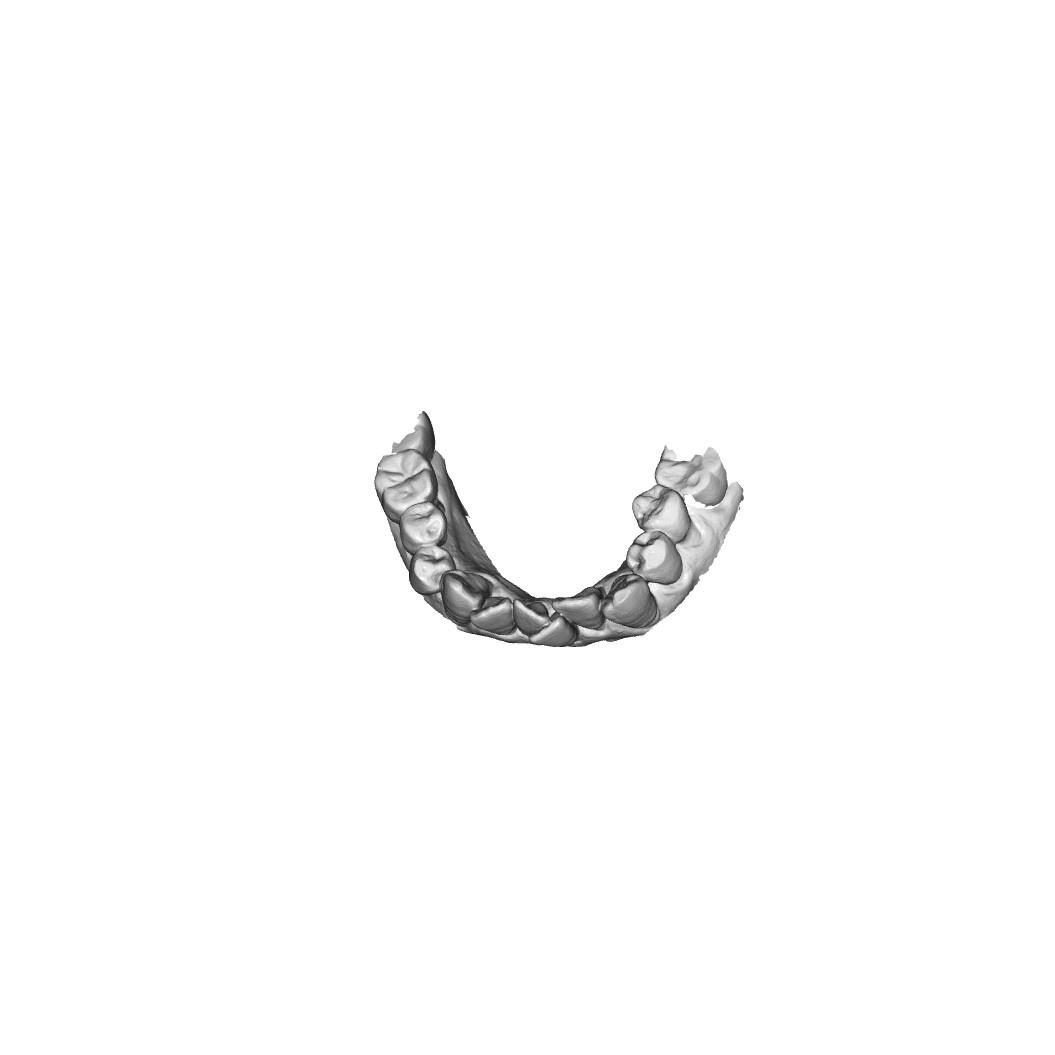canine: (601, 576, 663, 631), (438, 568, 489, 625)
incisor: (557, 585, 607, 633), (473, 600, 524, 640), (533, 616, 578, 652), (514, 597, 550, 640)
molar: (375, 451, 436, 516), (657, 442, 727, 498)
premolar: (631, 483, 687, 537), (627, 531, 680, 581), (409, 540, 454, 593), (400, 502, 445, 547)
